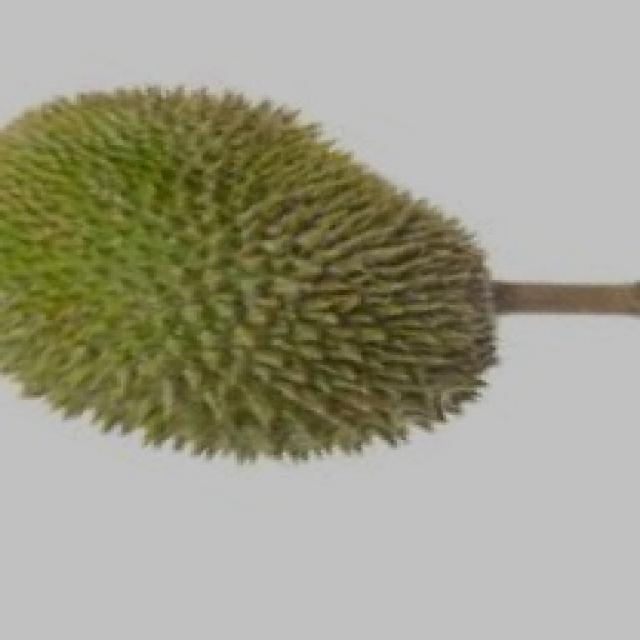fruit: (0, 95, 348, 525), (185, 112, 526, 518)
